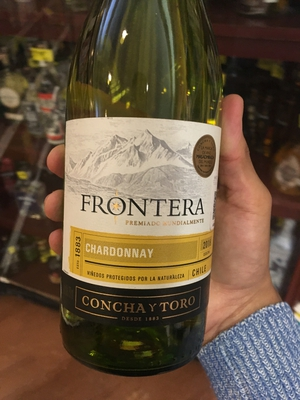frontera chardonnay: (53, 16, 224, 383)
